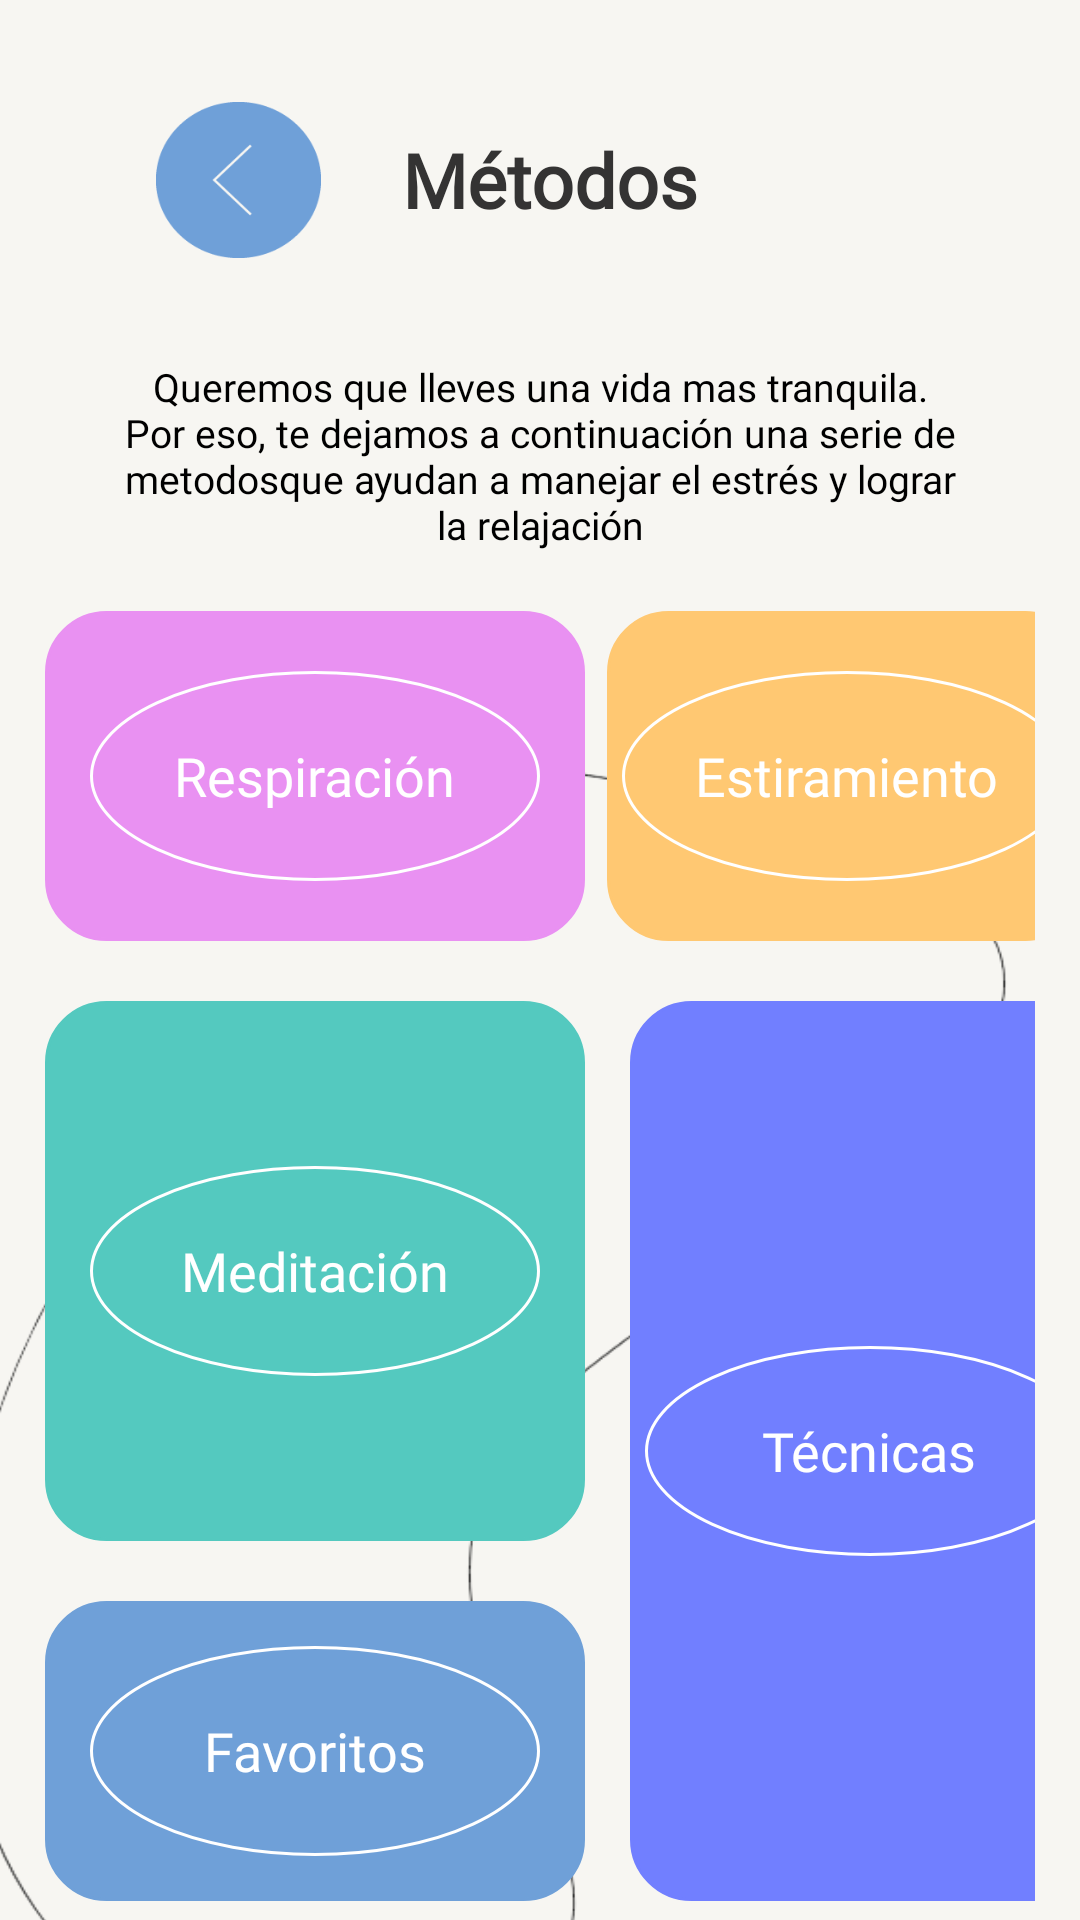

Icons on this 1080x1920 Android screen, each with the point to tap as (x=x, y=y):
regresar xxxdpi: (x=238, y=180)
